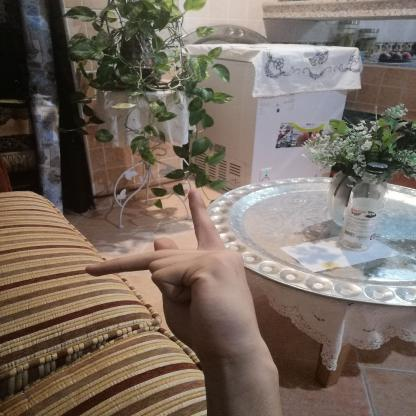DHAA: (70, 182, 278, 373)
